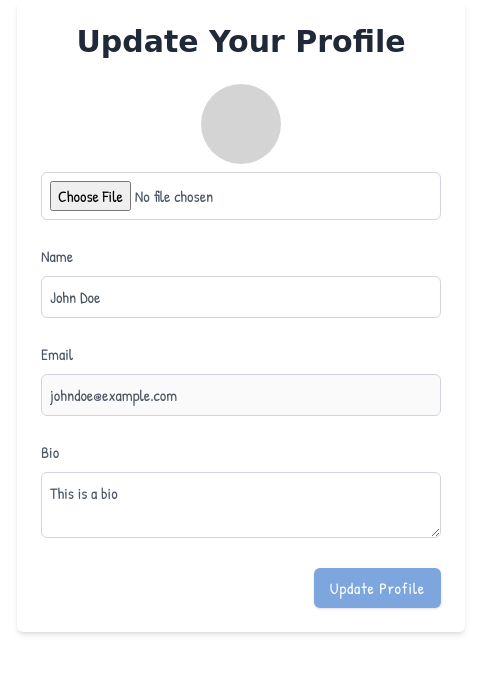
UserProfile Component › submits the form and displays a success message
Step 1. Replace the text in the field labelled "Name" with "Jane Doe" → {"x": 241, "y": 297}, box [41, 276, 441, 318]
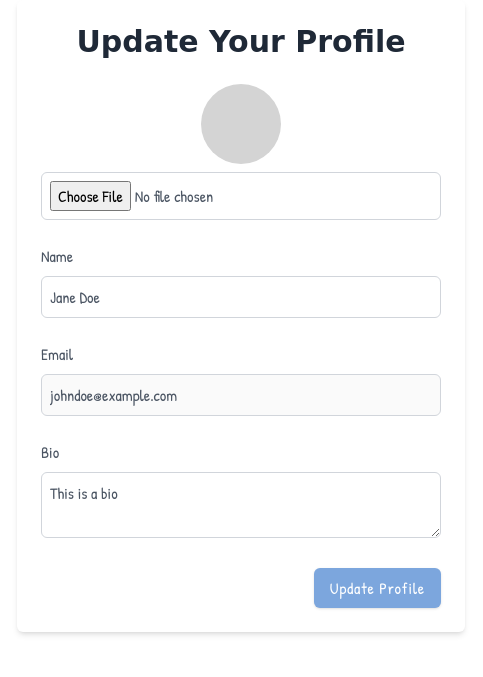
Step 2. Replace the text in the text box labelled "Bio" with "Updated bio" → {"x": 241, "y": 505}, box [41, 472, 441, 538]
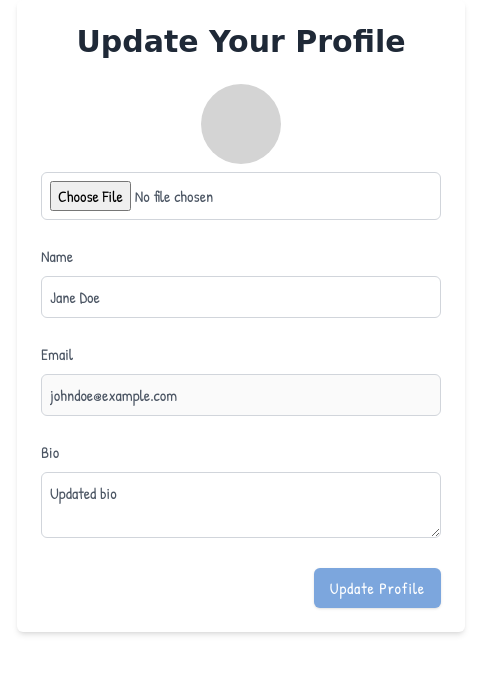
Step 3. Click the button "Update Profile" → {"x": 377, "y": 588}, box [314, 568, 441, 608]
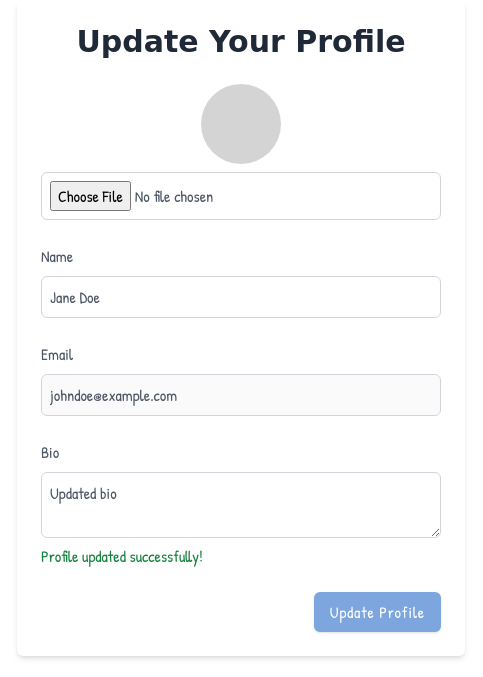
Expected: the text "Profile updated successfully!" is shown, [41, 545, 203, 567]
